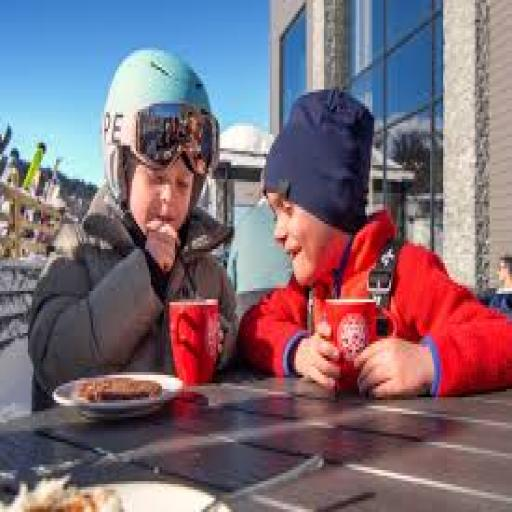red mug: (324, 300, 394, 380), (170, 300, 219, 386)
